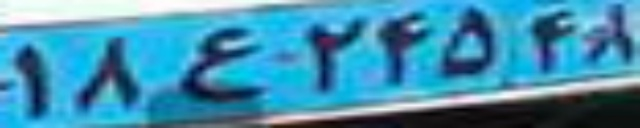1: (15, 42, 50, 116)
2: (305, 15, 367, 93)
4: (375, 10, 432, 86), (527, 9, 581, 75)
5: (439, 4, 492, 78)
8: (73, 35, 143, 111), (587, 2, 637, 68)
ain: (180, 25, 271, 102)
